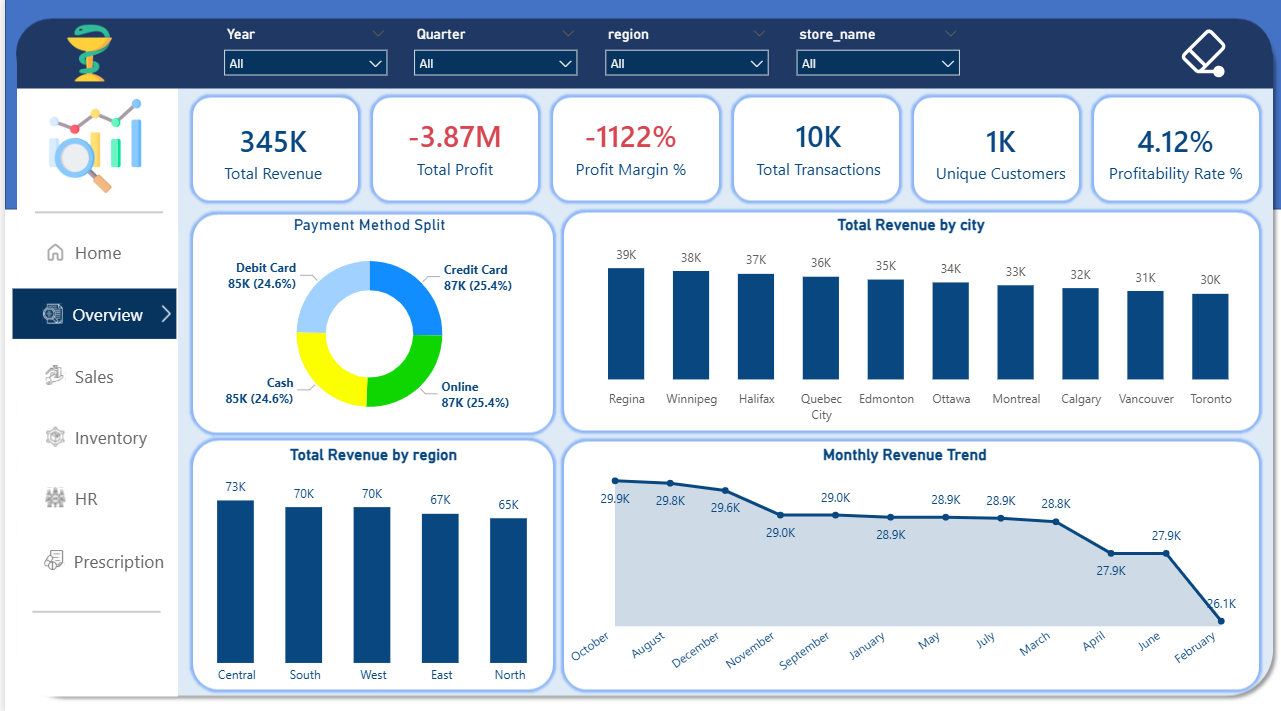

The page's visual inventory and layout, read from the dashboard file:
{"tool":"powerbi","page":{"name":"Executive Overview","canvas":[1280,720],"ordinal":1},"visuals":[{"type":"cardVisual","title":"Total Revenue","fields":{"Data":["DAX_Measures.Total Revenue"]},"box":[183.4,103,169.6,106.8],"z":0},{"type":"actionButton","title":"Button active","box":[7.8,292.5,163.9,50.7],"z":0,"group":"g1"},{"type":"cardVisual","fields":{"Data":["FINANCIAL KPIS.Total Profit"]},"box":[363.1,103,175.9,98],"z":1000},{"type":"actionButton","box":[144.4,292.5,27.3,50.7],"z":1000,"group":"g1"},{"type":"cardVisual","fields":{"Data":["FINANCIAL KPIS.Profit Margin %"]},"box":[541.5,103,169.6,98],"z":2000},{"type":"cardVisual","fields":{"Data":["SALES KPIs.Total Transactions"]},"box":[719.9,103,187.2,98],"z":3000},{"type":"cardVisual","fields":{"Data":["SALES KPIs.Unique Customers"]},"box":[900.8,103,189.7,106.8],"z":4000},{"type":"cardVisual","fields":{"Data":["SALES KPIs.Profitability Rate %"]},"box":[1074.2,103,194.7,106.8],"z":5000},{"type":"clusteredColumnChart","fields":{"Category":["Stores.region"],"Y":["FINANCIAL KPIS.Total Revenue"]},"box":[179.5,450.1,377.2,247.2],"z":6000},{"type":"lineChart","title":" Monthly Revenue Trend","fields":{"Category":["Date_Dim.Month_Name"],"Y":["FINANCIAL KPIS.Total Revenue"]},"box":[556.6,449.8,687.2,247.5],"z":7000},{"type":"donutChart","title":"Payment Method Split","fields":{"Category":["Sales.payment_method"],"Y":["FINANCIAL KPIS.Total Revenue"]},"box":[187.2,219.9,354.3,218.6],"z":8000},{"type":"clusteredColumnChart","fields":{"Category":["Stores.city"],"Y":["FINANCIAL KPIS.Total Revenue"]},"box":[556.7,219.8,699.8,214.6],"z":9000},{"type":"slicer","fields":{"Values":["Date_Dim.Year"]},"box":[209.1,25.6,183.5,63.2],"z":10000},{"type":"slicer","fields":{"Values":["Date_Dim.Quarter"]},"box":[398.7,25.6,183.5,63.2],"z":11000},{"type":"slicer","fields":{"Values":["Stores.region"]},"box":[589.8,25.6,183.5,63.2],"z":12000},{"type":"slicer","fields":{"Values":["Stores.store_name"]},"box":[780.8,25.6,183.5,63.2],"z":13000},{"type":"actionButton","box":[9.5,231.2,163.3,50.3],"z":14000},{"type":"actionButton","box":[9.1,538.5,162.6,50.7],"z":15000},{"type":"actionButton","box":[10.4,354.4,162.6,50.7],"z":17000},{"type":"actionButton","box":[10.4,476.7,162.6,50.7],"z":18000},{"type":"actionButton","box":[10.4,416.2,162.6,49.4],"z":19000},{"type":"shape","box":[30.2,201,128.2,30.2],"z":20000},{"type":"image","box":[56.5,26.4,56.5,61.6],"z":21000},{"type":"shape","box":[27.5,601.8,128.3,29],"z":22000},{"type":"group","id":"g1","title":"Group 1","box":[7.8,292.5,163.9,50.7],"z":23000},{"type":"image","box":[1171.5,25.3,55.5,62.7],"z":28000},{"type":"image","box":[36.2,100,108.8,100],"z":29000}]}

Visuals, with their boxes on the page's 1280x720 design canvas (x1, y1, x2, y2). These are canvas units, not pixel positions in the 1281x711 screenshot, which may show the page scaled, cropped or inside an application window:
"Total Revenue" cardVisual: {"left": 183, "top": 103, "right": 353, "bottom": 210}
"Button active" actionButton: {"left": 8, "top": 292, "right": 172, "bottom": 343}
cardVisual - FINANCIAL KPIS.Total Profit: {"left": 363, "top": 103, "right": 539, "bottom": 201}
actionButton: {"left": 144, "top": 292, "right": 172, "bottom": 343}
cardVisual - FINANCIAL KPIS.Profit Margin %: {"left": 542, "top": 103, "right": 711, "bottom": 201}
cardVisual - SALES KPIs.Total Transactions: {"left": 720, "top": 103, "right": 907, "bottom": 201}
cardVisual - SALES KPIs.Unique Customers: {"left": 901, "top": 103, "right": 1090, "bottom": 210}
cardVisual - SALES KPIs.Profitability Rate %: {"left": 1074, "top": 103, "right": 1269, "bottom": 210}
clusteredColumnChart - Stores.region x FINANCIAL KPIS.Total Revenue: {"left": 180, "top": 450, "right": 557, "bottom": 697}
" Monthly Revenue Trend" lineChart: {"left": 557, "top": 450, "right": 1244, "bottom": 697}
"Payment Method Split" donutChart: {"left": 187, "top": 220, "right": 542, "bottom": 438}
clusteredColumnChart - Stores.city x FINANCIAL KPIS.Total Revenue: {"left": 557, "top": 220, "right": 1256, "bottom": 434}
slicer - Date_Dim.Year: {"left": 209, "top": 26, "right": 393, "bottom": 89}
slicer - Date_Dim.Quarter: {"left": 399, "top": 26, "right": 582, "bottom": 89}
slicer - Stores.region: {"left": 590, "top": 26, "right": 773, "bottom": 89}
slicer - Stores.store_name: {"left": 781, "top": 26, "right": 964, "bottom": 89}
actionButton: {"left": 10, "top": 231, "right": 173, "bottom": 282}
actionButton: {"left": 9, "top": 538, "right": 172, "bottom": 589}
actionButton: {"left": 10, "top": 354, "right": 173, "bottom": 405}
actionButton: {"left": 10, "top": 477, "right": 173, "bottom": 527}
actionButton: {"left": 10, "top": 416, "right": 173, "bottom": 466}
shape: {"left": 30, "top": 201, "right": 158, "bottom": 231}
image: {"left": 56, "top": 26, "right": 113, "bottom": 88}
shape: {"left": 28, "top": 602, "right": 156, "bottom": 631}
"Group 1" group: {"left": 8, "top": 292, "right": 172, "bottom": 343}
image: {"left": 1172, "top": 25, "right": 1227, "bottom": 88}
image: {"left": 36, "top": 100, "right": 145, "bottom": 200}
